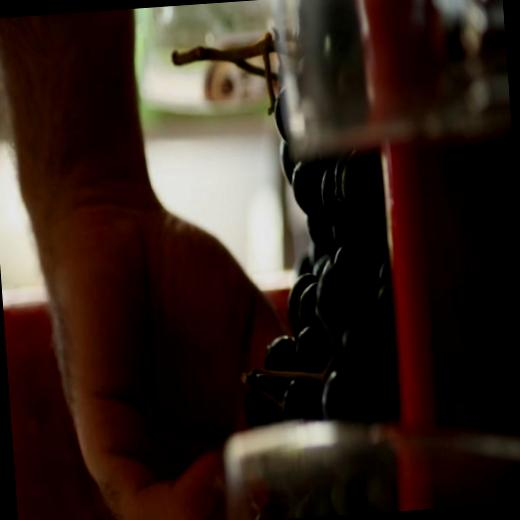Orange: (219, 80, 401, 428)
